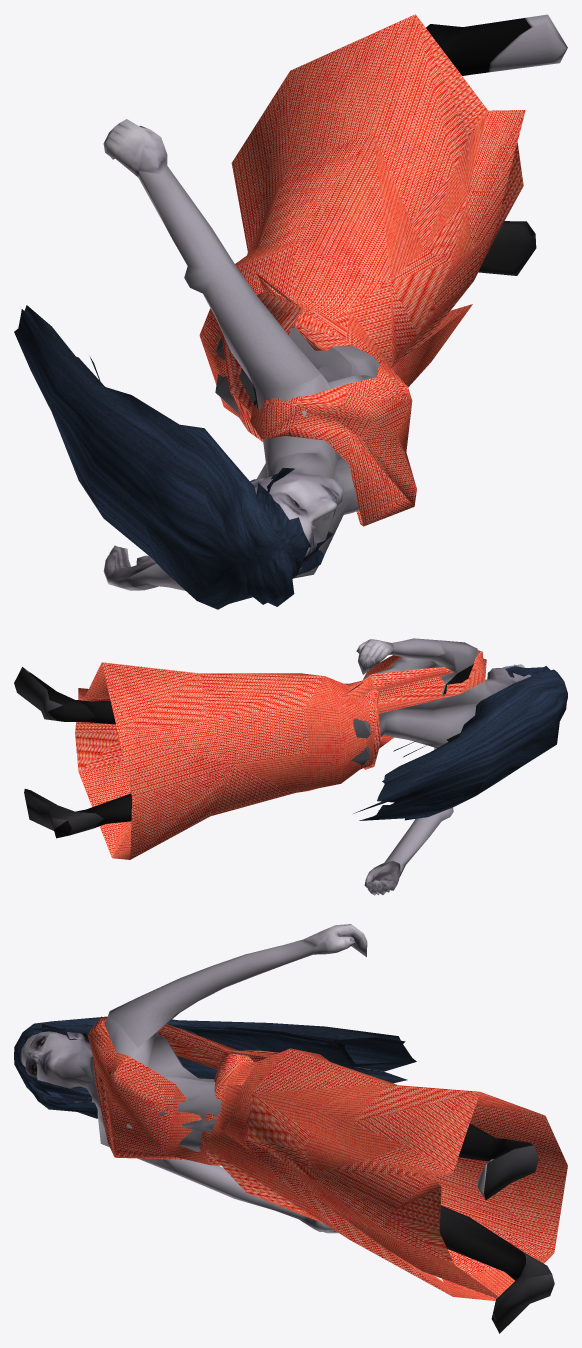
The model's file is sita_000155.obj.
3 renders of one model, top to bottom at view 1: azimuth 30°, elevation 25°; view 2: azimuth 150°, elevation 25°; view 3: azimuth 270°, elevation 25°, orthographic. The views are drawn at different scales.
Visible parts, largest first — view 1: saree_Cylinder, hair.003_omino.013, body.001_omino.012; view 2: saree_Cylinder, body.001_omino.012, hair.003_omino.013; view 3: saree_Cylinder, body.001_omino.012, hair.003_omino.013.
Part boxes in pixels (x1,y1,x2,y2): saree_Cylinder: [199, 14, 525, 526]; hair.003_omino.013: [14, 305, 333, 609]; body.001_omino.012: [103, 14, 567, 590]; saree_Cylinder: [75, 650, 486, 859]; body.001_omino.012: [14, 638, 531, 895]; hair.003_omino.013: [353, 666, 567, 820]; saree_Cylinder: [87, 1016, 567, 1300]; body.001_omino.012: [21, 924, 554, 1333]; hair.003_omino.013: [14, 1016, 416, 1118].
Bounding box in the file's own units: 2.11 × 1.34 × 2.18.
